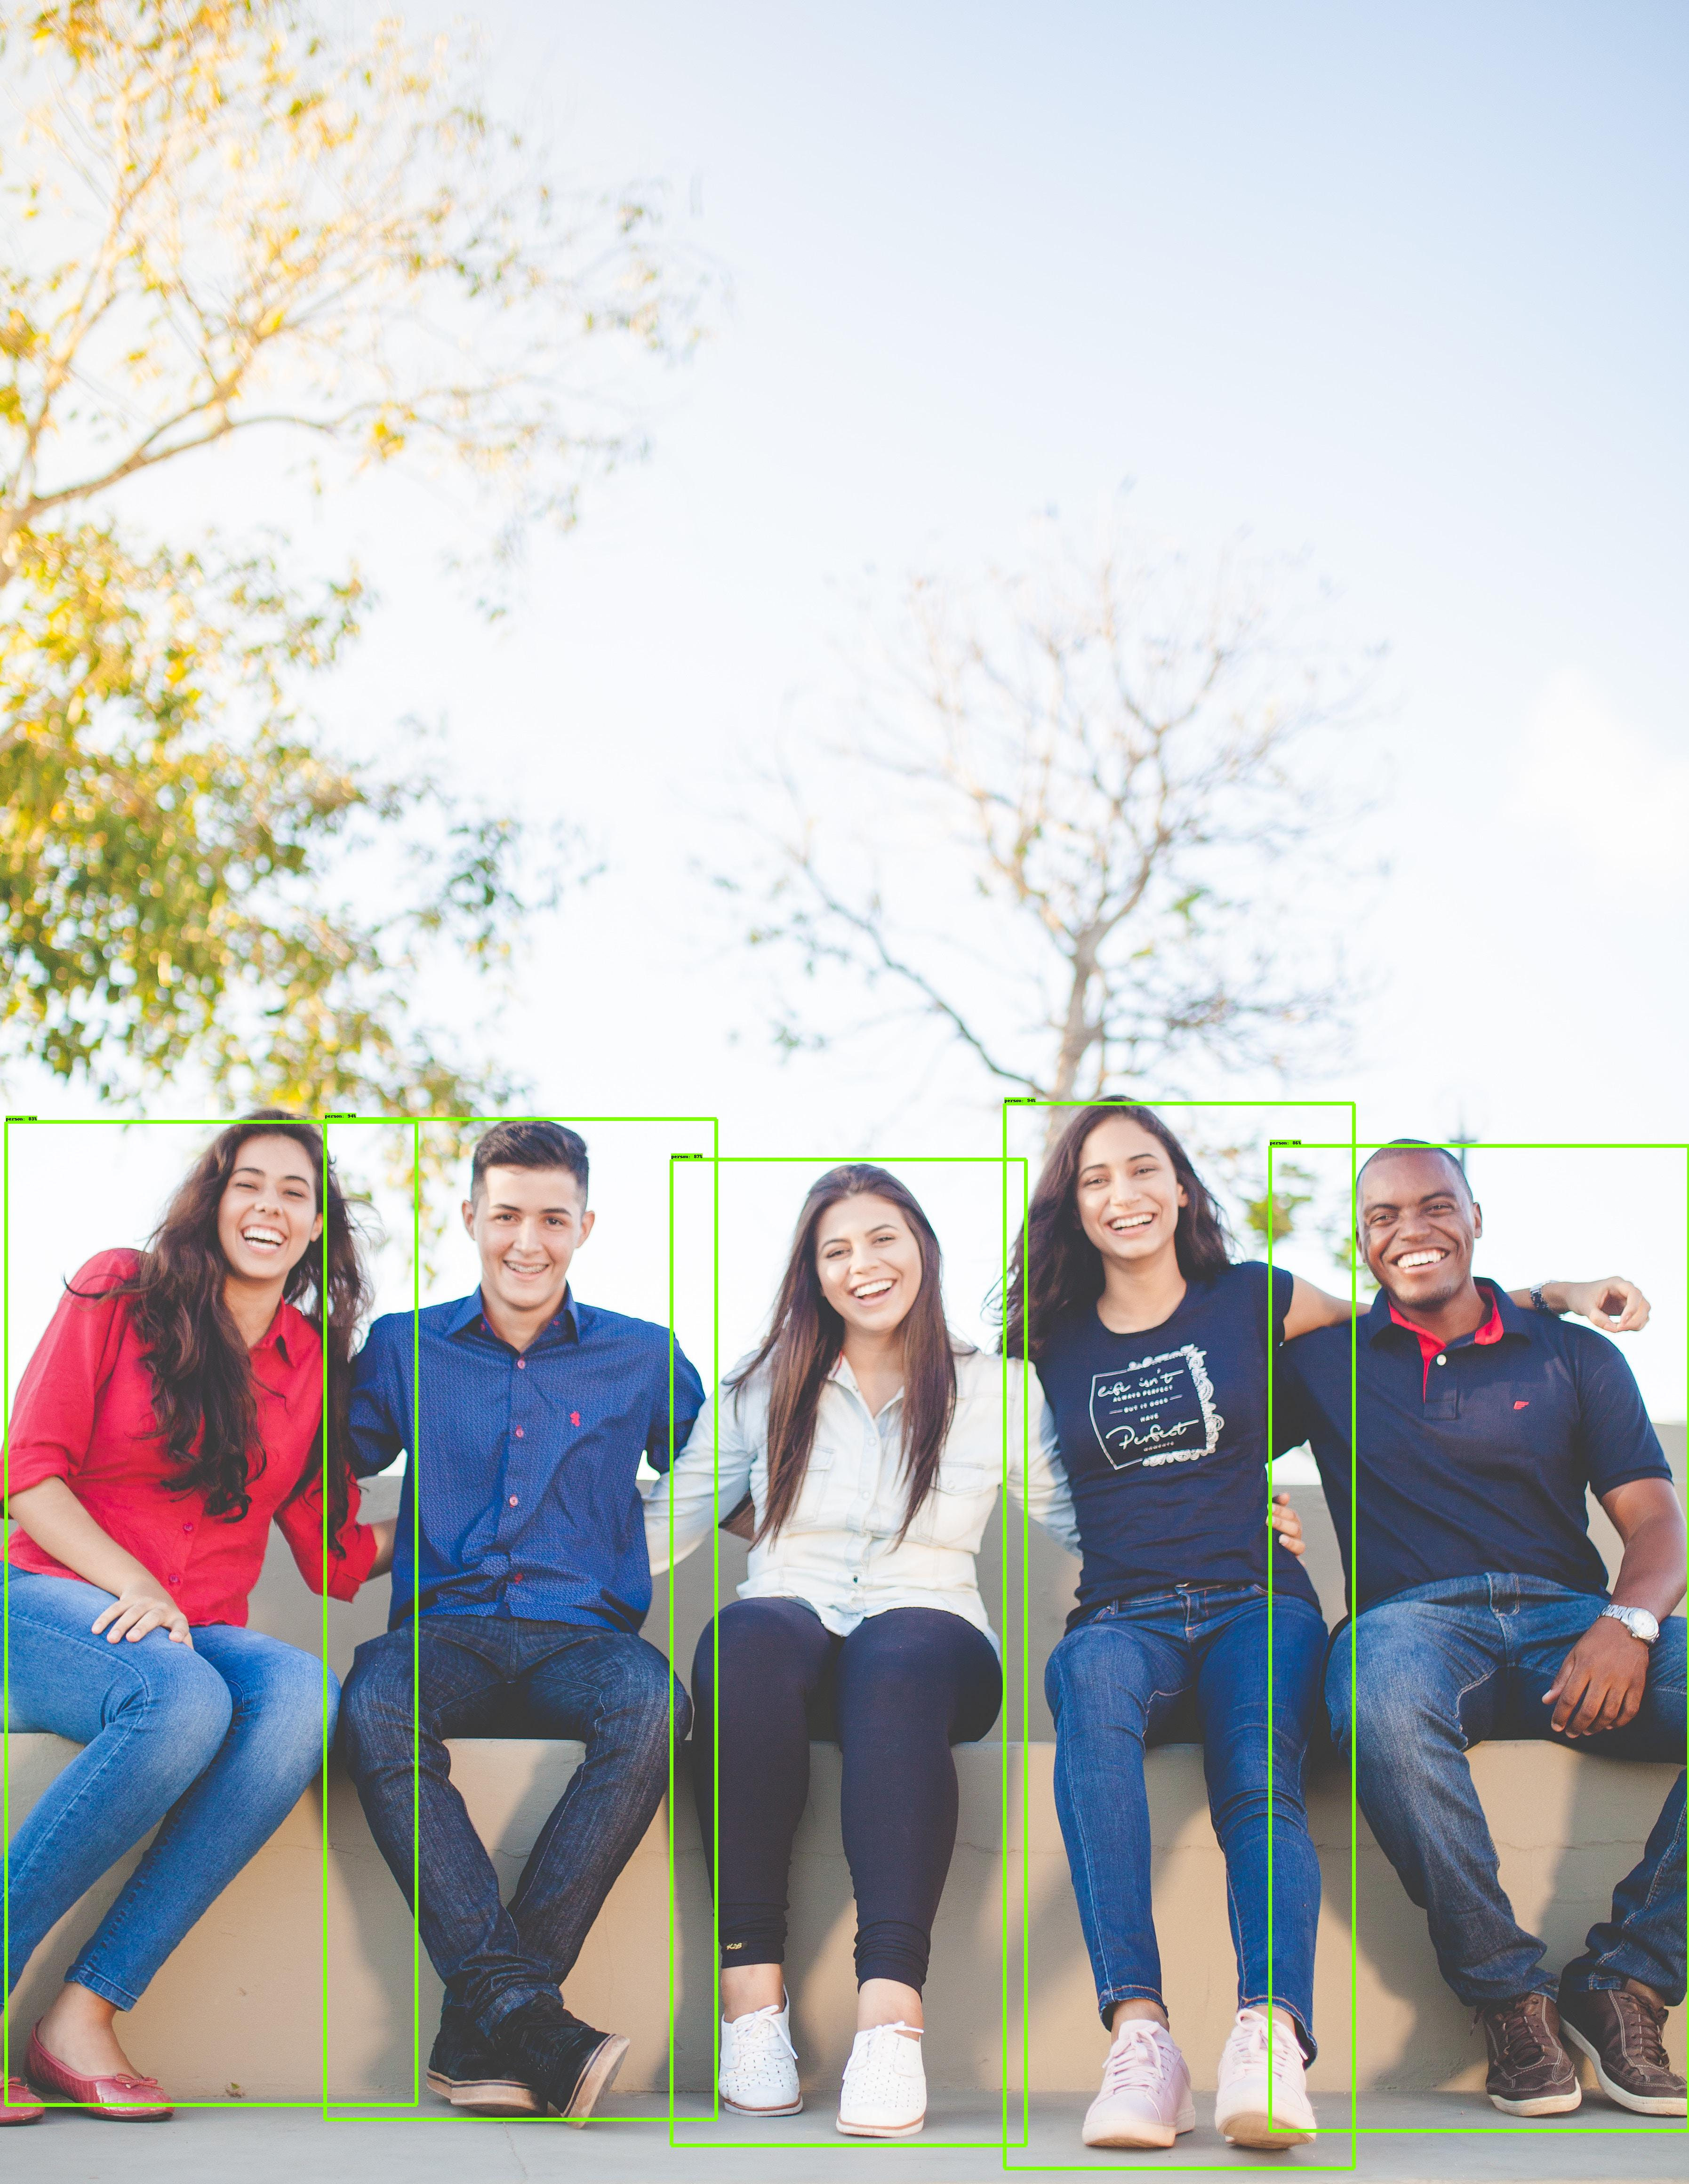person: (1270, 1146, 1689, 2130), (6, 1122, 416, 2104), (325, 1119, 716, 2119), (1004, 1104, 1354, 2168), (671, 1160, 1026, 2145)
